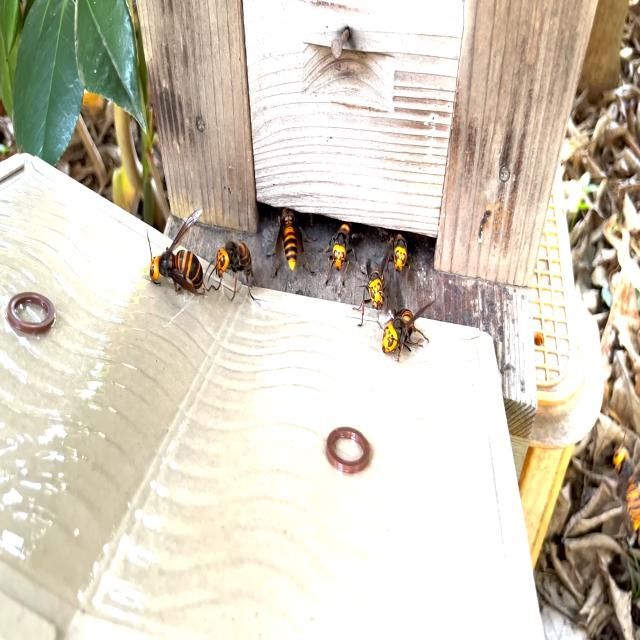Hornets: (145, 208, 204, 296), (379, 277, 436, 363), (203, 239, 260, 304), (322, 224, 359, 292), (358, 251, 391, 325), (384, 233, 412, 277)
